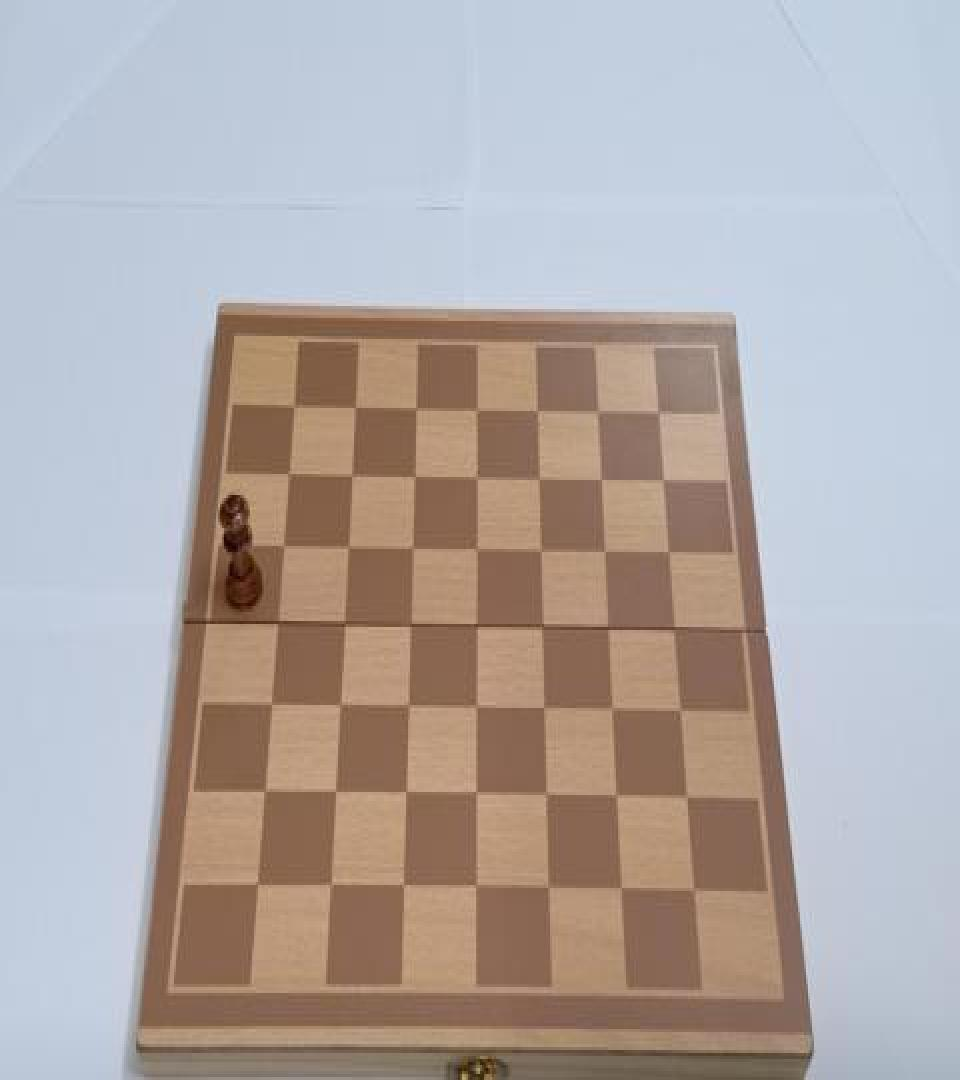xcorner: (280, 460, 298, 488), (331, 694, 349, 722), (407, 394, 425, 422), (531, 466, 549, 494), (593, 466, 611, 494), (275, 534, 293, 561), (269, 612, 287, 639), (263, 693, 281, 720), (249, 874, 267, 901), (346, 393, 364, 420), (343, 462, 361, 489), (335, 612, 353, 639), (327, 783, 345, 810), (322, 876, 340, 903), (404, 537, 422, 564), (400, 696, 418, 723), (397, 783, 415, 810), (395, 876, 413, 903), (468, 396, 486, 423), (468, 465, 486, 492), (468, 537, 486, 564), (468, 615, 486, 642), (468, 785, 486, 812), (529, 397, 547, 424), (532, 538, 550, 565), (534, 617, 552, 644), (536, 699, 554, 726), (539, 786, 557, 813), (541, 879, 559, 906), (590, 397, 608, 424), (597, 540, 615, 567), (601, 618, 619, 645), (605, 699, 623, 726), (613, 880, 631, 907), (650, 399, 668, 426), (655, 468, 673, 495), (667, 618, 685, 645), (673, 700, 691, 727), (686, 880, 704, 907), (285, 392, 303, 418), (256, 782, 274, 808), (339, 536, 357, 562), (406, 464, 424, 490), (402, 614, 420, 640), (468, 698, 486, 724), (468, 878, 486, 904), (609, 788, 627, 814), (661, 542, 679, 568), (679, 788, 697, 814)
